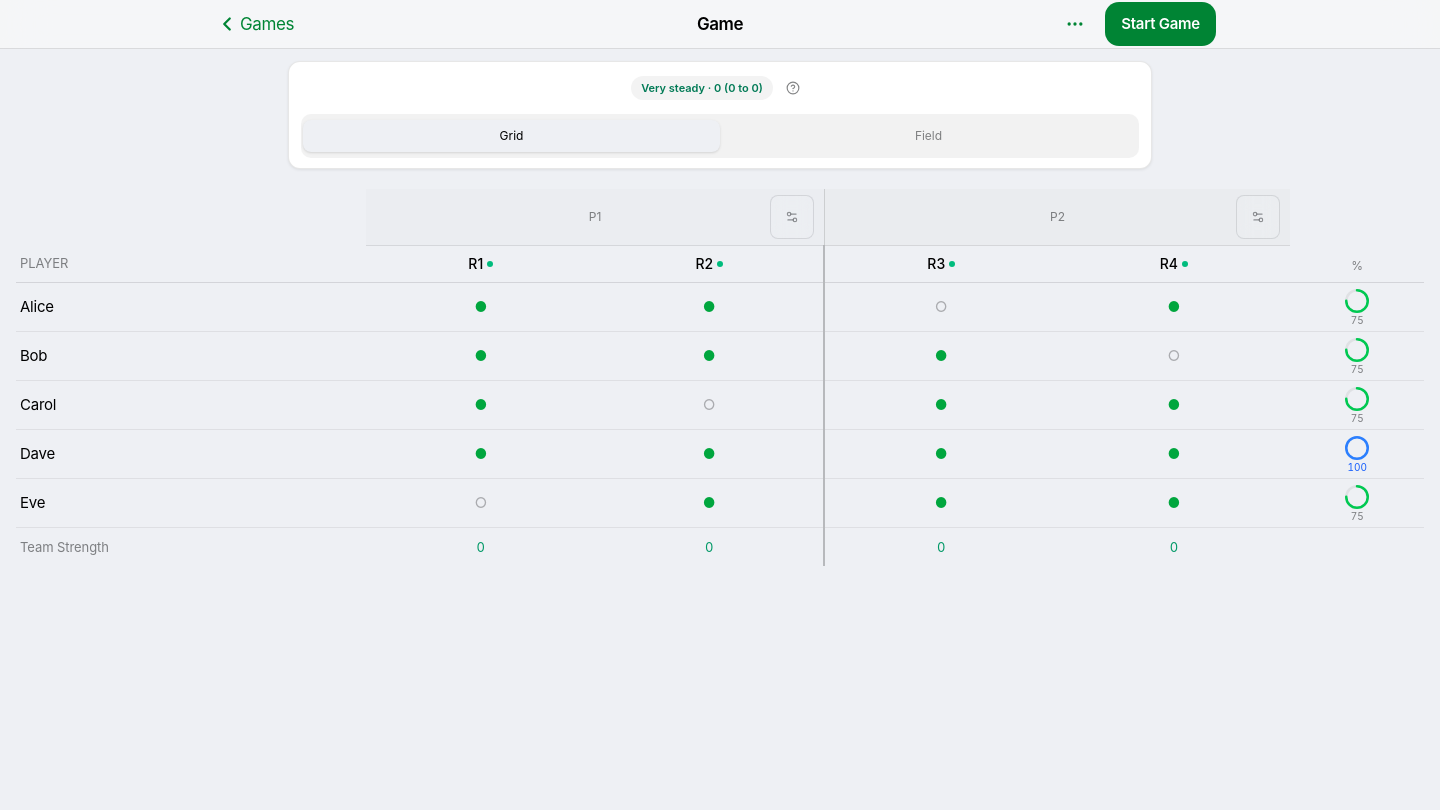
Test: RotationGrid › setup mode › shows Start Game button and Regenerate in overflow menu
Expected: the button "Start Game" is shown, [1105,2,1216,46]
Regenerate is behind the overflow menu
Click the button named "game actions" at (1075, 24), box [1053,2,1097,46]
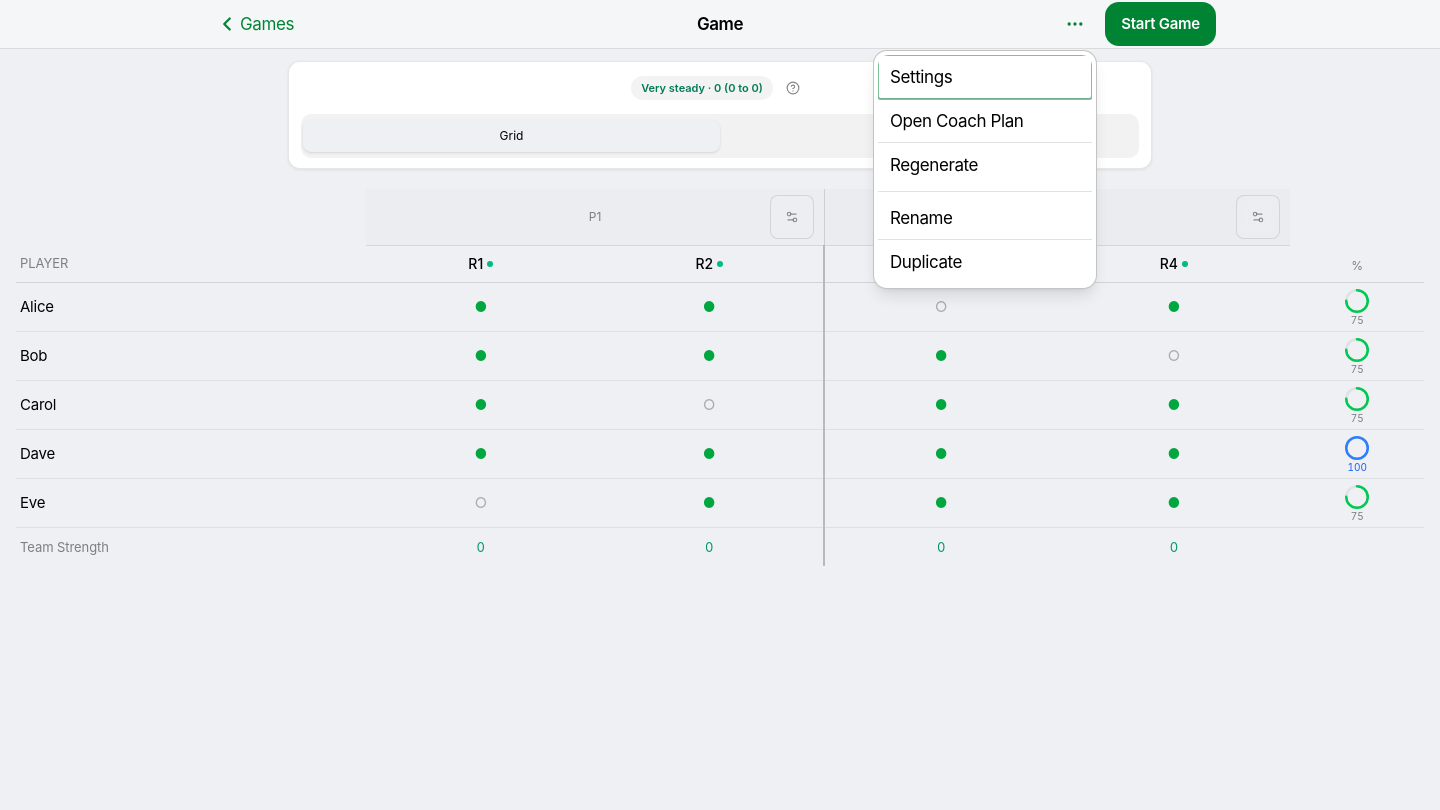
Now the button "Regenerate" is shown, box [878,143,1092,187]
Now the button "Open Coach Plan" is shown, box [878,99,1092,143]
